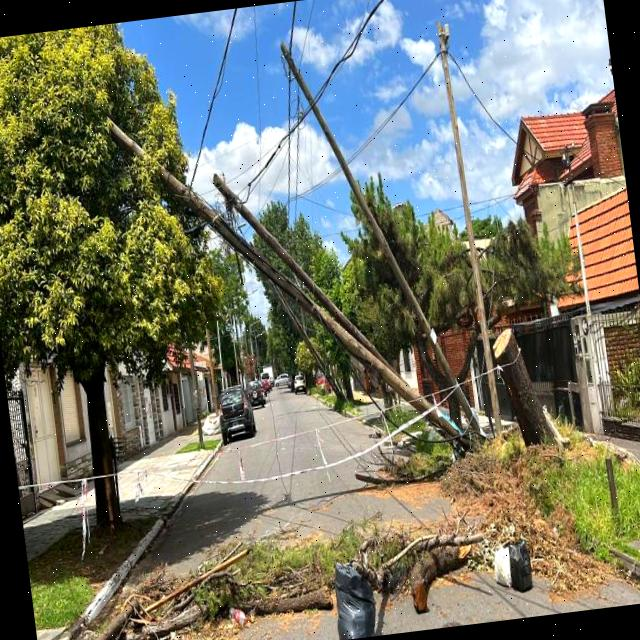Broken Pole: (103, 117, 480, 450), (279, 40, 481, 437)
